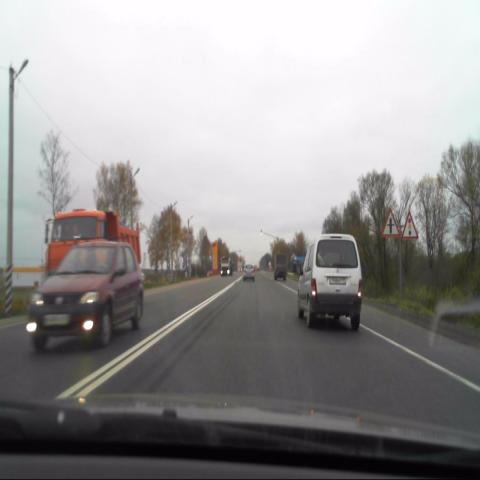1_8: (402, 211, 420, 239)
2_3: (381, 208, 399, 237)
